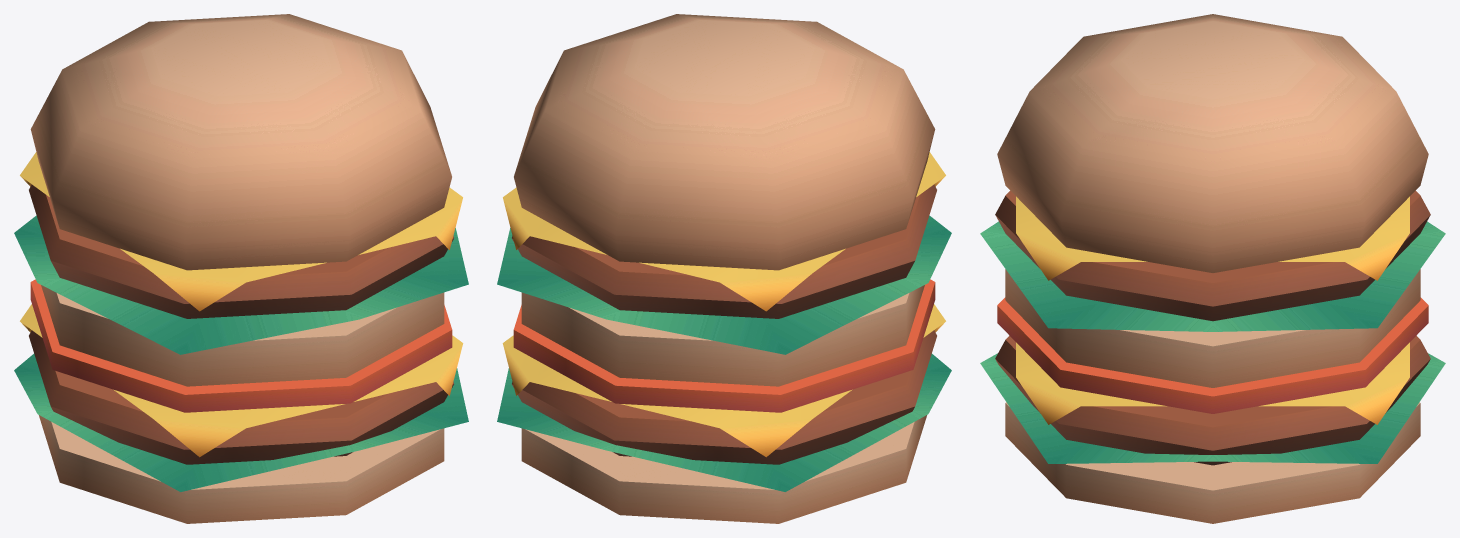
File: burger-double.glb
3 renders of one model, left to right at view 1: azimuth 30°, elevation 25°; view 2: azimuth 150°, elevation 25°; view 3: azimuth 270°, elevation 25°, orthographic.
Parts seen in each view (by area): view 1: bun-top, patty (×2), salad (×2), bun-bottom, bun-middle, cheese (×2), tomato; view 2: bun-top, patty (×2), salad (×2), bun-bottom, bun-middle, cheese (×2), tomato; view 3: bun-top, patty (×2), salad (×2), bun-bottom, bun-middle, tomato, cheese (×2).
Boxes of the visible parts, <box> form: bun-top: <box>30,14,451,270</box>; patty (×2): <box>29,184,453,464</box>; salad (×2): <box>14,215,468,491</box>; bun-bottom: <box>39,415,444,523</box>; bun-middle: <box>41,285,444,386</box>; cheese (×2): <box>20,152,463,457</box>; tomato: <box>30,279,452,412</box>; bun-top: <box>514,14,935,270</box>; patty (×2): <box>512,184,936,464</box>; salad (×2): <box>497,215,951,491</box>; bun-bottom: <box>521,415,926,523</box>; bun-middle: <box>521,285,924,386</box>; cheese (×2): <box>502,152,945,457</box>; tomato: <box>513,279,935,412</box>; bun-top: <box>997,14,1428,272</box>; patty (×2): <box>995,190,1430,465</box>; salad (×2): <box>980,221,1445,463</box>; bun-bottom: <box>1005,402,1420,523</box>; bun-middle: <box>1005,269,1420,387</box>; tomato: <box>997,297,1428,413</box>; cheese (×2): <box>1016,196,1409,424</box>.
Size of the model in its own units: 0.4041 by 0.36 by 0.4041.
Materials: 1 (1 with a texture image).
